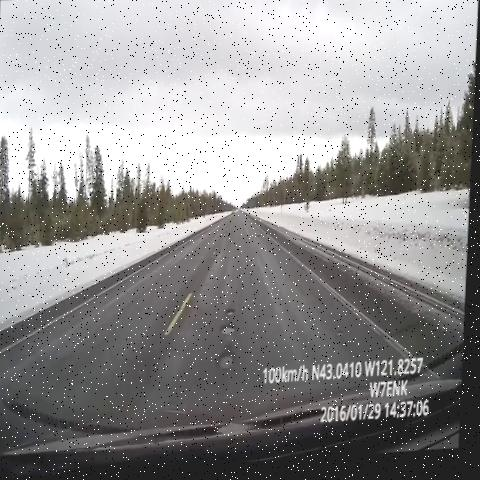pothole: (214, 344, 244, 379), (217, 323, 243, 347), (225, 309, 242, 322), (255, 234, 265, 246)
